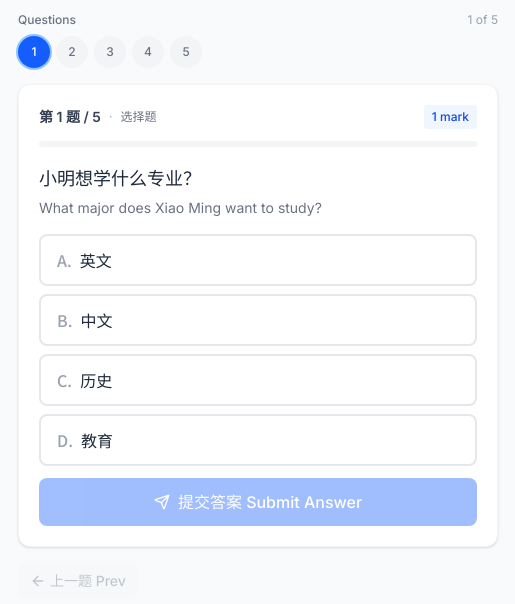
Test case: PracticePage — full Q1→Q2→Q3→Finish flow › Q2 (written) after Next has empty textarea
This screenshot has width=515, height=604.
(page scrolled)
Q1: pick + submit
Step 1. Click the radio button labelled "B.中文" → click(96, 320), box [39,294,477,346]
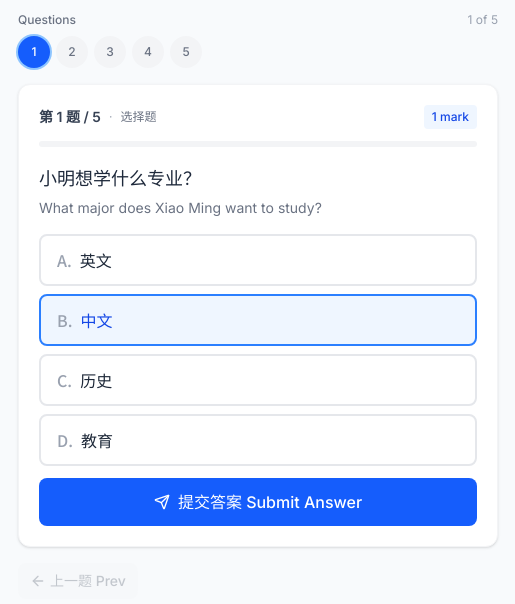
Step 2. Click the button "提交答案 Submit Answer" → click(258, 502), box [39,478,477,526]
(page scrolled)
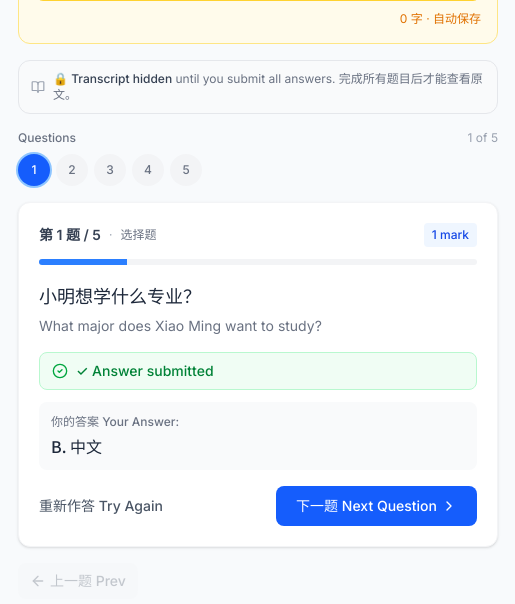
Forward to Q2 (which_three — written)
Step 3. Click the button "下一题 Next Question" → click(377, 506), box [276,486,477,526]
(page scrolled)
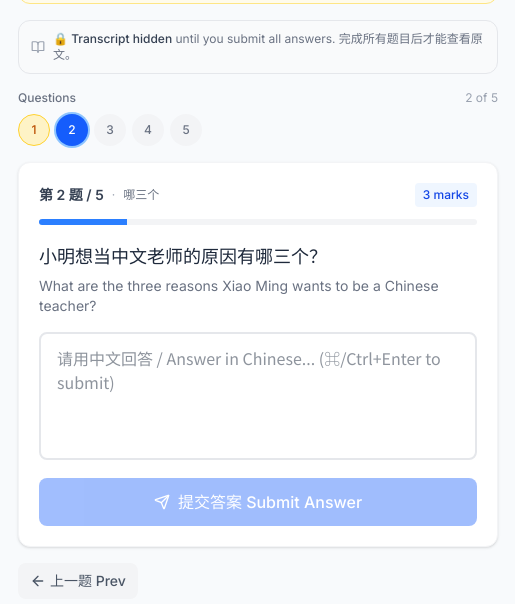
Check: the text "第 2 题 / 5" is shown, box [39,185,104,205]
Check: the text box named "your answer in chinese" is empty, box [39,332,477,460]
Check: the button "提交答案 Submit Answer" is disabled, box [39,478,477,526]
